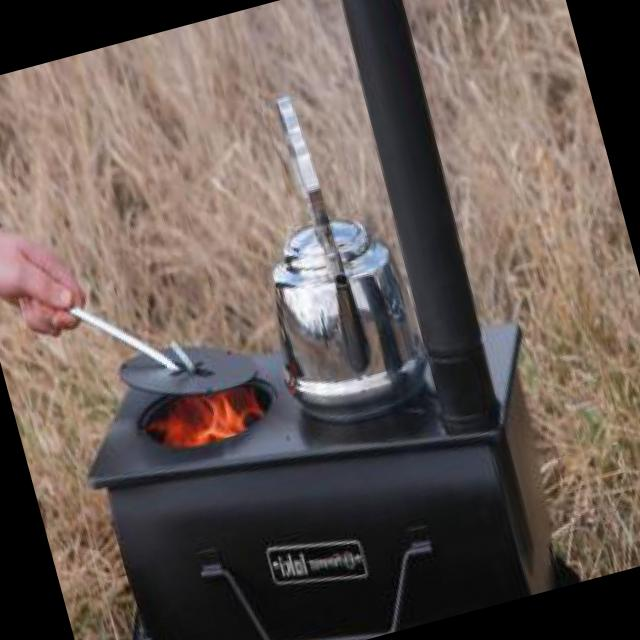fire: (142, 374, 263, 468)
